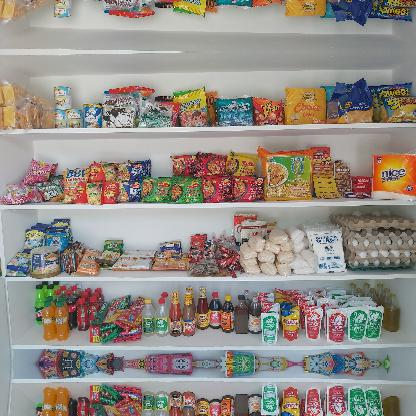Lady-s-Choice: (30, 245, 61, 278)
